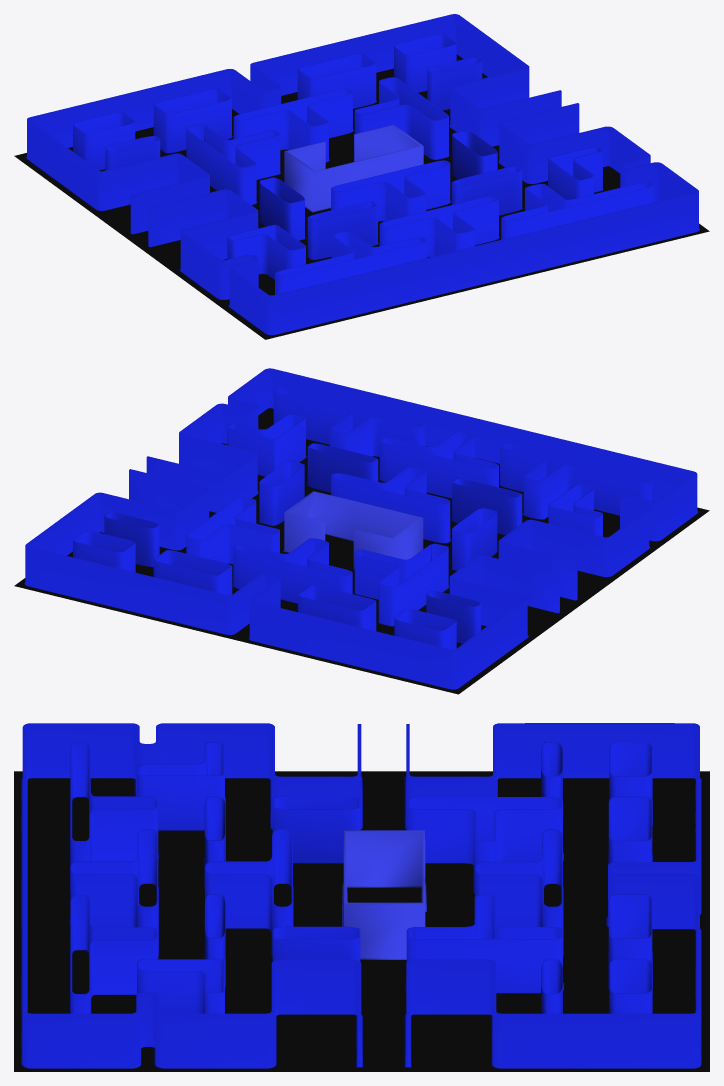
File: mazeWith3DepthRedux.fbx
The picture shows the model from 3 angles, top to bottom: view 1: azimuth 30°, elevation 25°; view 2: azimuth 150°, elevation 25°; view 3: azimuth 270°, elevation 25°; orthographic projection. The views are drawn at different scales.
Visible parts, largest first — view 1: Plane.021, Floor, Plane.001, Plane.002, Plane.004, Plane.005, Plane.006, Plane.007, Plane, Plane.003, Plane.019, Plane.020 (+10 smaller); view 2: Plane.021, Floor, Plane, Plane.001, Plane.007, Plane.002, Plane.006, Plane.004, Plane.005, Plane.003, Plane.009, Plane.010 (+10 smaller); view 3: Floor, Plane.021, Plane.002, Plane.001, Plane.003, Plane.006, Plane.007, Plane.005, Plane, Plane.004, Plane.008, Plane.012 (+10 smaller).
Boxes of the visible parts, bbox=[...] form: Plane.021: bbox=[25, 14, 699, 335]; Floor: bbox=[14, 55, 709, 339]; Plane.001: bbox=[284, 124, 423, 212]; Plane.002: bbox=[186, 124, 280, 204]; Plane.004: bbox=[233, 89, 353, 162]; Plane.005: bbox=[331, 160, 450, 221]; Plane.006: bbox=[379, 196, 499, 257]; Plane.007: bbox=[501, 182, 653, 239]; Plane: bbox=[275, 231, 426, 294]; Plane.003: bbox=[354, 77, 449, 159]; Plane.019: bbox=[153, 88, 232, 153]; Plane.020: bbox=[297, 53, 376, 108]; Plane.021: bbox=[24, 368, 698, 689]; Floor: bbox=[14, 408, 709, 694]; Plane: bbox=[499, 443, 652, 519]; Plane.001: bbox=[282, 491, 423, 569]; Plane.007: bbox=[273, 388, 425, 456]; Plane.002: bbox=[354, 543, 449, 626]; Plane.006: bbox=[379, 431, 498, 498]; Plane.004: bbox=[232, 538, 352, 603]; Plane.005: bbox=[331, 467, 451, 543]; Plane.003: bbox=[186, 496, 279, 564]; Plane.009: bbox=[227, 413, 306, 476]; Plane.010: bbox=[451, 478, 522, 535]; Floor: bbox=[14, 771, 709, 1071]; Plane.021: bbox=[21, 723, 701, 1068]; Plane.002: bbox=[406, 797, 563, 893]; Plane.001: bbox=[342, 830, 426, 959]; Plane.003: bbox=[405, 894, 563, 993]; Plane.006: bbox=[69, 829, 158, 956]; Plane.007: bbox=[70, 895, 158, 1013]; Plane.005: bbox=[204, 829, 293, 957]; Plane: bbox=[70, 742, 158, 890]; Plane.004: bbox=[474, 829, 563, 956]; Plane.008: bbox=[137, 742, 225, 830]; Plane.012: bbox=[272, 796, 360, 863].
Size of the model in its own units: 3690 by 317 by 3613.
